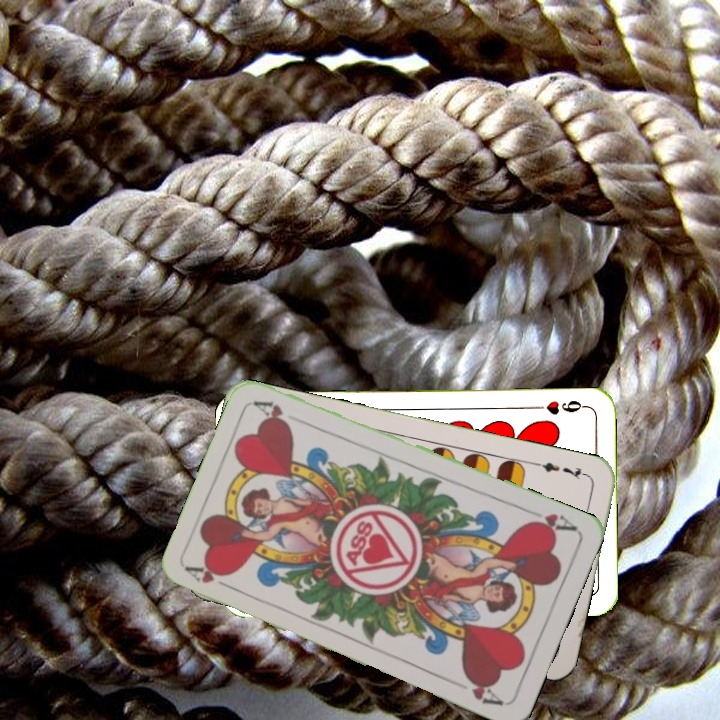E7: (532, 458, 591, 483)
H9: (530, 396, 589, 417)
HA: (522, 505, 580, 537), (183, 562, 240, 594)
